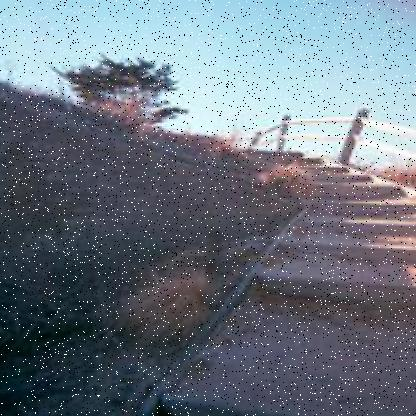stair_up: (234, 130, 416, 288)
